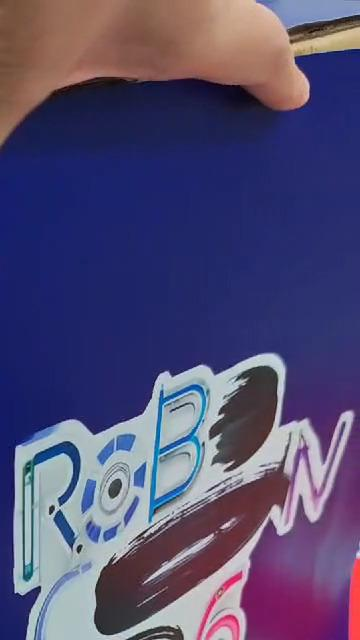B_R1: (0, 315, 355, 640)
